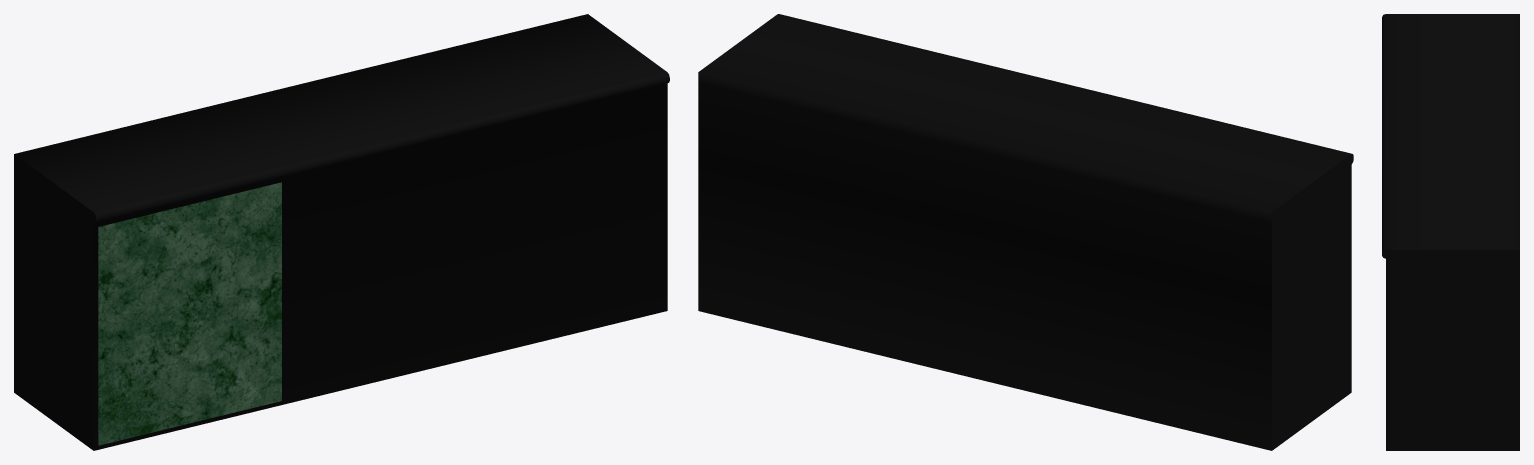
File: Long Table.fbx
3 views of the same model, side by side, from view 1: azimuth 30°, elevation 25°; view 2: azimuth 150°, elevation 25°; view 3: azimuth 270°, elevation 25° (orthographic). The views are drawn at different scales.
Visible parts, largest first — view 1: Long Tabe.001; view 2: Long Tabe.001; view 3: Long Tabe.001.
Boxes of the visible parts, <box> form: Long Tabe.001: <box>14,14,669,450</box>; Long Tabe.001: <box>698,14,1353,450</box>; Long Tabe.001: <box>1382,14,1519,450</box>.
Bounding box in the file's own units: 5.39 × 2.14 × 1.33.
